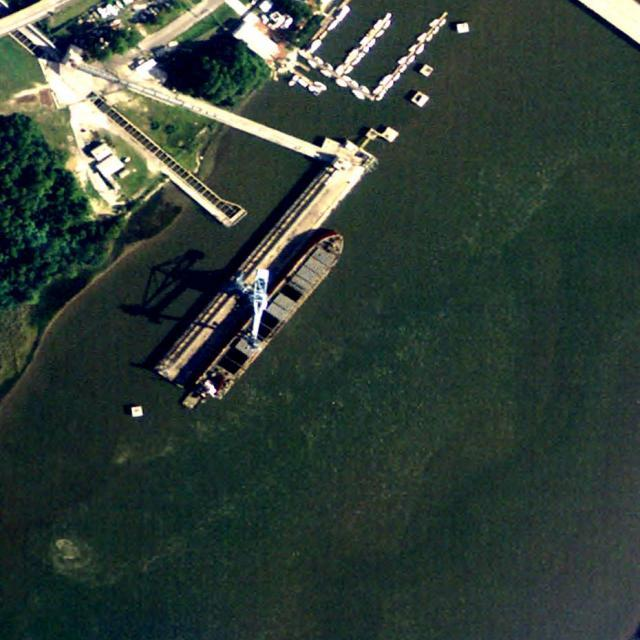Cargo: (189, 221, 356, 408)
Dock: (151, 136, 381, 394)
